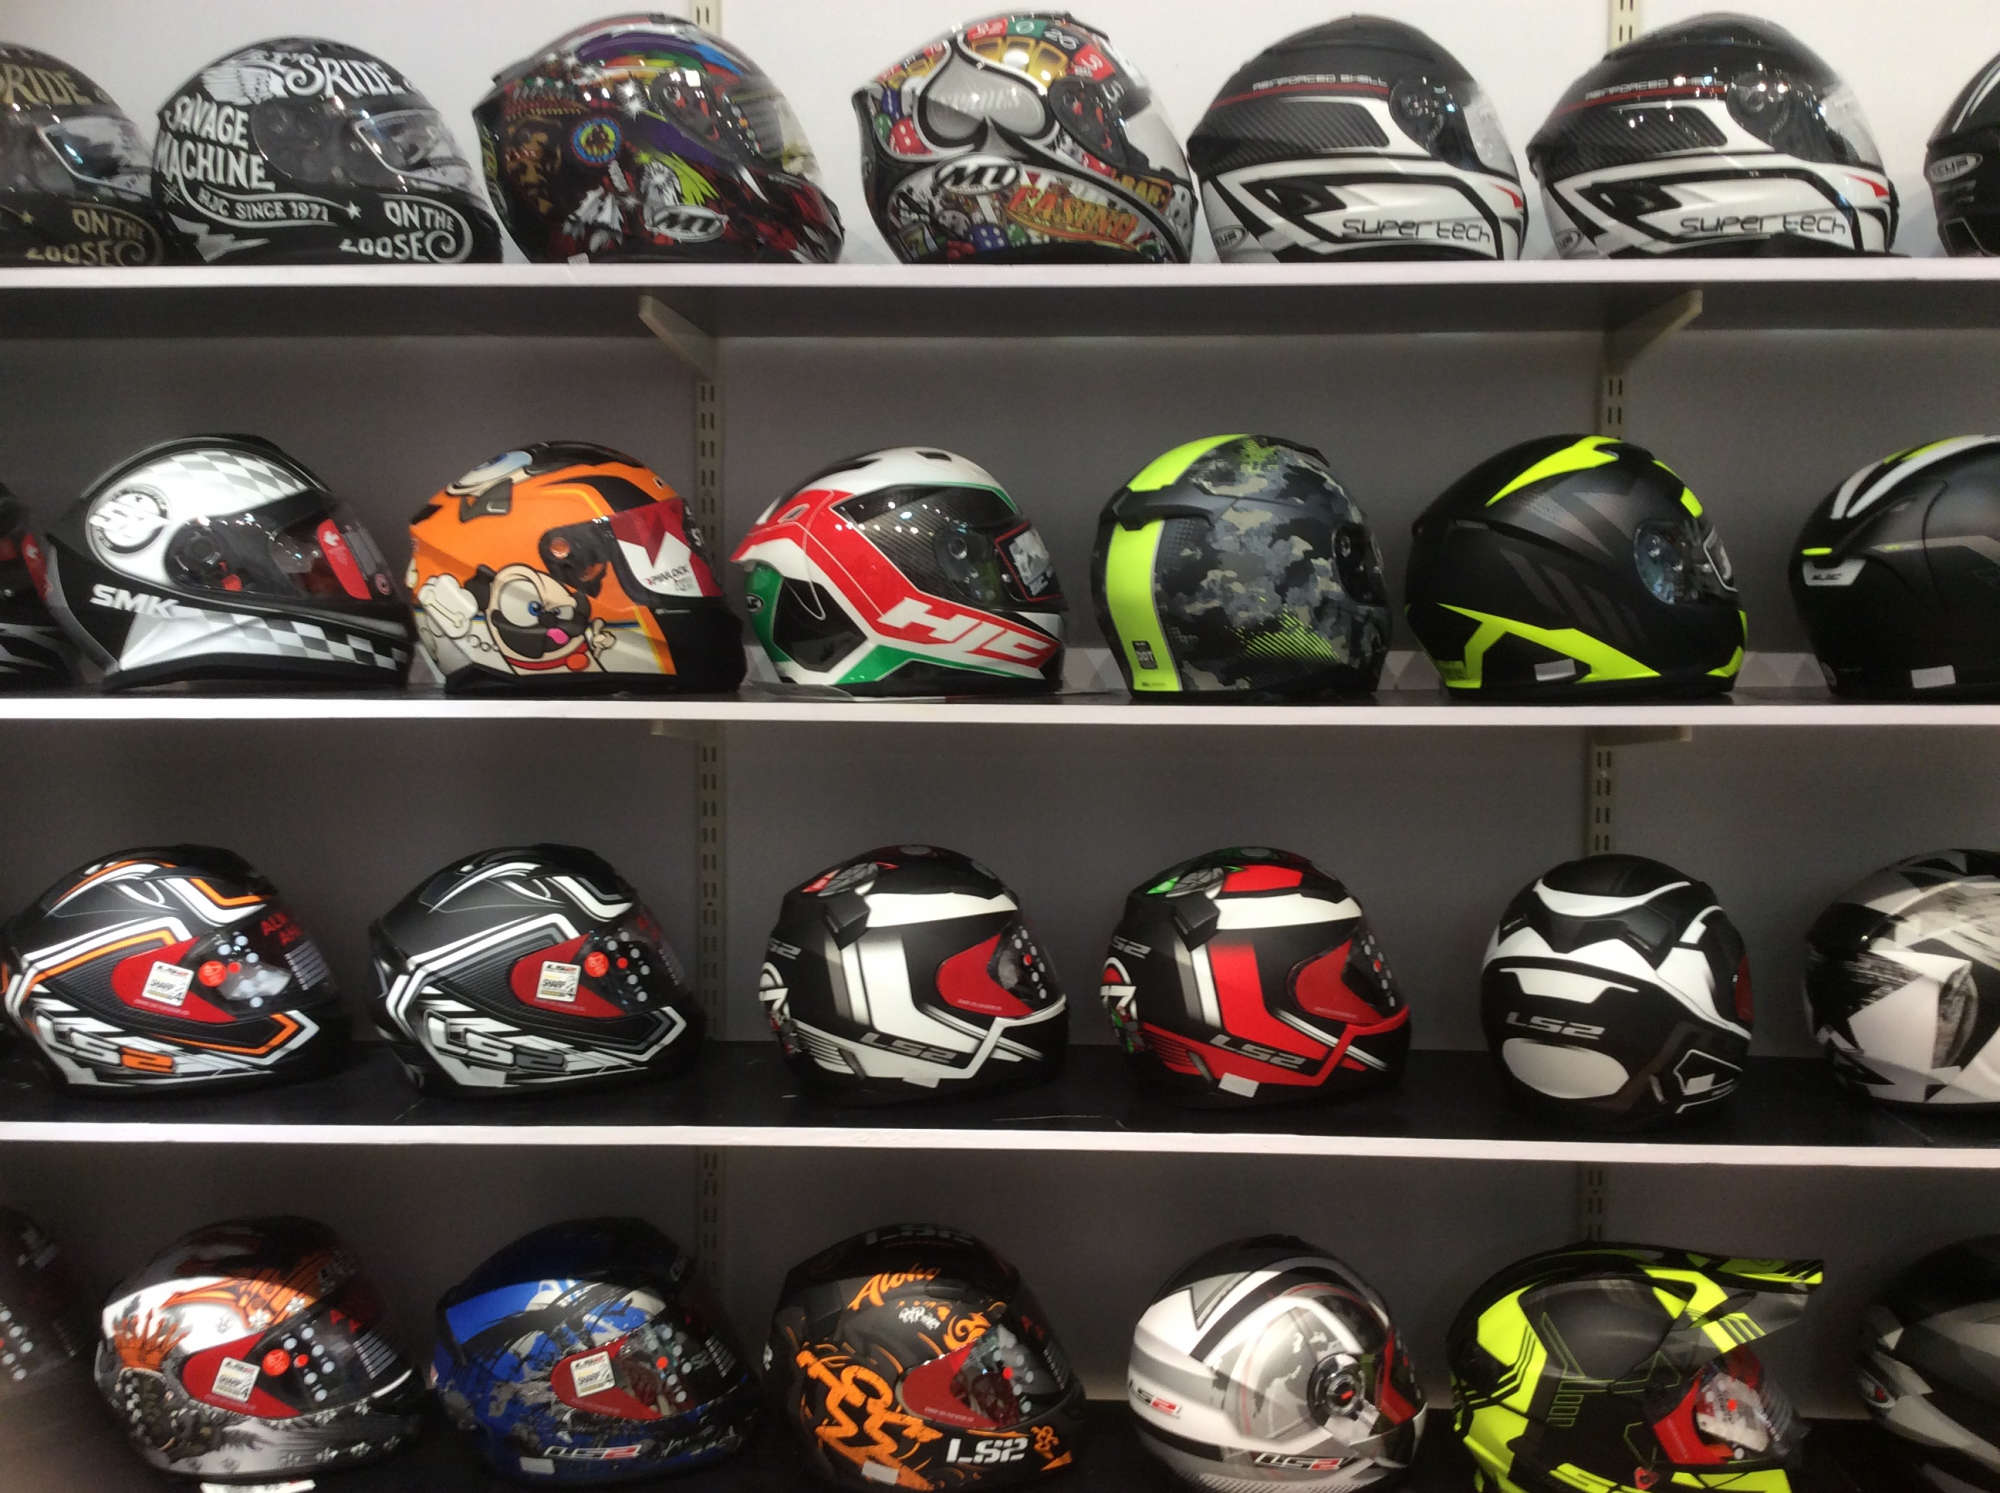with_helmet: (14, 423, 414, 698), (355, 834, 714, 1126), (1446, 1237, 1845, 1490), (78, 1204, 427, 1493), (2, 837, 348, 1120), (1402, 430, 1757, 706), (1096, 837, 1424, 1135), (747, 837, 1078, 1131), (1525, 6, 1904, 260), (472, 9, 849, 262), (736, 430, 1079, 703), (427, 1211, 764, 1487), (1468, 844, 1777, 1143), (764, 1215, 1096, 1493), (847, 5, 1197, 263), (408, 430, 739, 701), (1111, 1230, 1442, 1493), (1085, 430, 1391, 707), (152, 27, 505, 265), (1194, 13, 1525, 263), (1795, 841, 2000, 1150), (1785, 427, 2000, 703), (2, 20, 155, 270)
